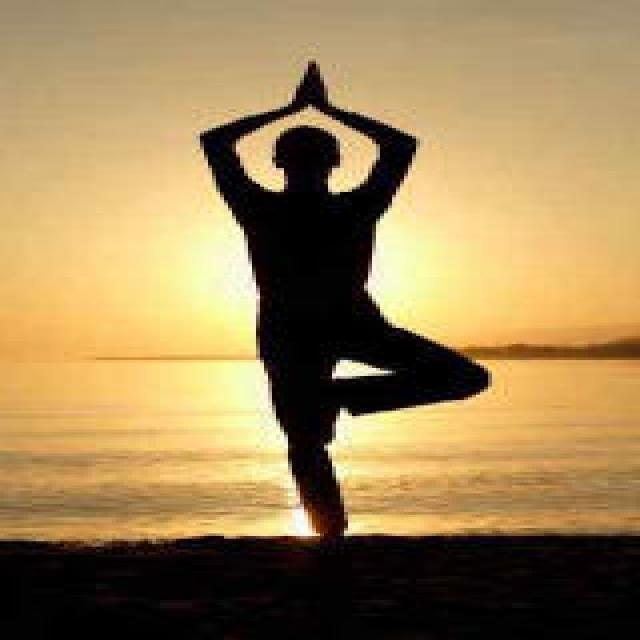yoga-pose tree: (201, 54, 487, 553)
